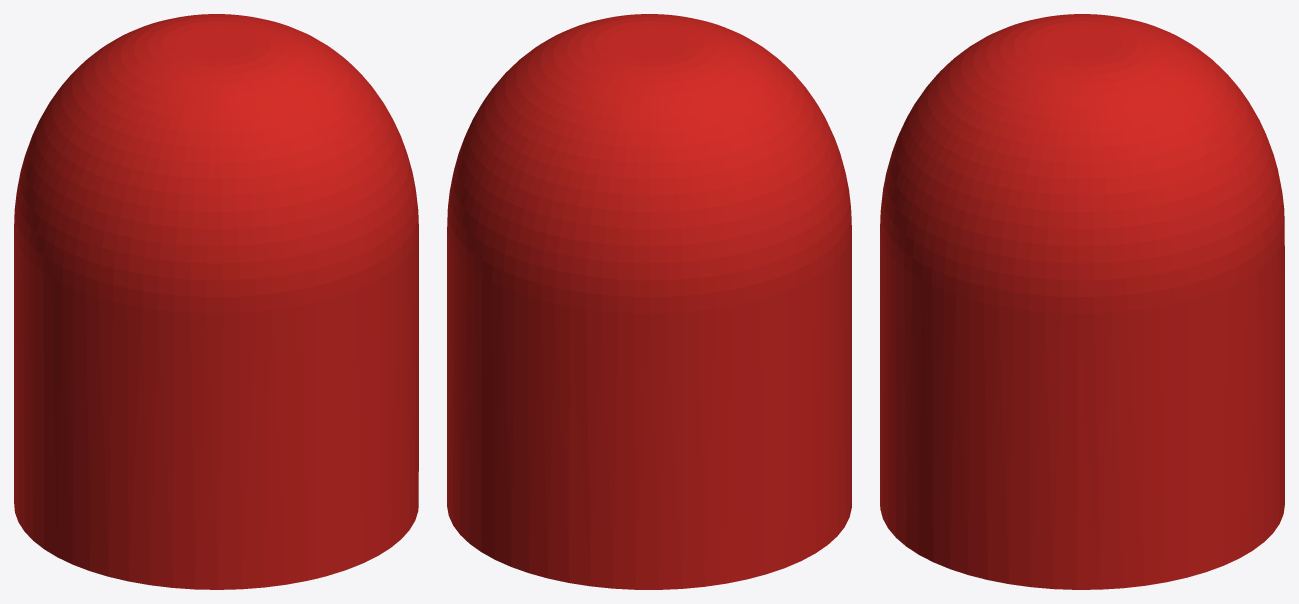
Rendered from led_rojo.glb.
3 renders of one model, left to right at view 1: azimuth 30°, elevation 25°; view 2: azimuth 150°, elevation 25°; view 3: azimuth 270°, elevation 25°, orthographic.
Parts seen in each view (by area): view 1: LED; view 2: LED; view 3: LED.
Part boxes in pixels (x1,y1,x2,y2): LED: (14, 14, 418, 589); LED: (447, 14, 851, 589); LED: (880, 14, 1284, 589).
Bounding box in the file's own units: 2.85 × 3.58 × 2.85.
